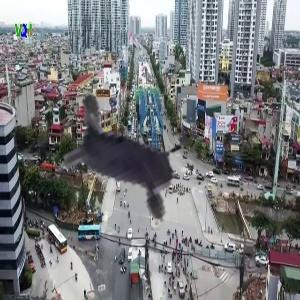drone: (10, 48, 242, 280)
